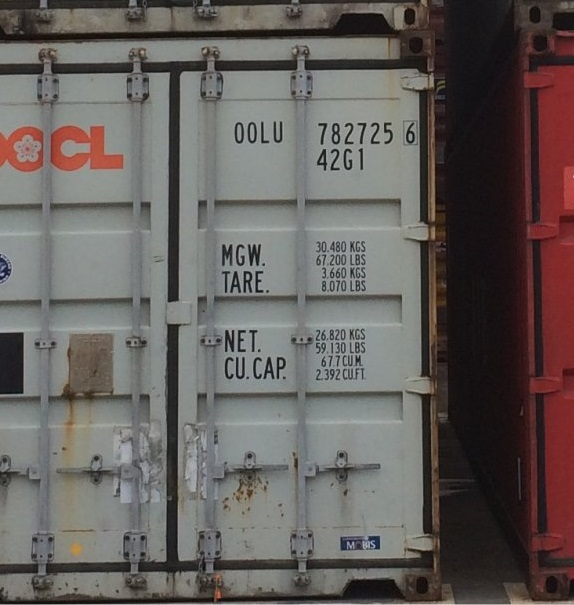container_door: (1, 42, 438, 592)
